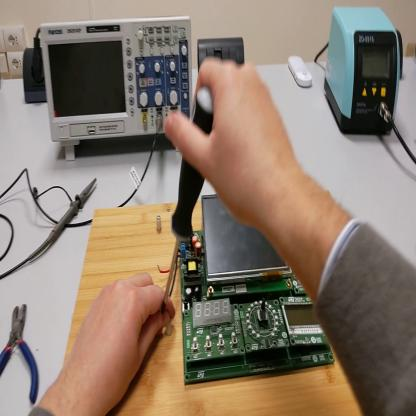hand: (167, 57, 294, 234), (66, 273, 175, 404)
low voltage board: (180, 198, 336, 386)
oscilloscope: (41, 17, 198, 162)
oscilloscope probe tip: (29, 180, 96, 261)
pliers: (3, 305, 39, 405)
screwdriver-: (160, 80, 217, 310)
socket: (23, 47, 50, 102), (397, 29, 405, 77)
welder station: (326, 9, 402, 137)
working area: (63, 197, 363, 416)
